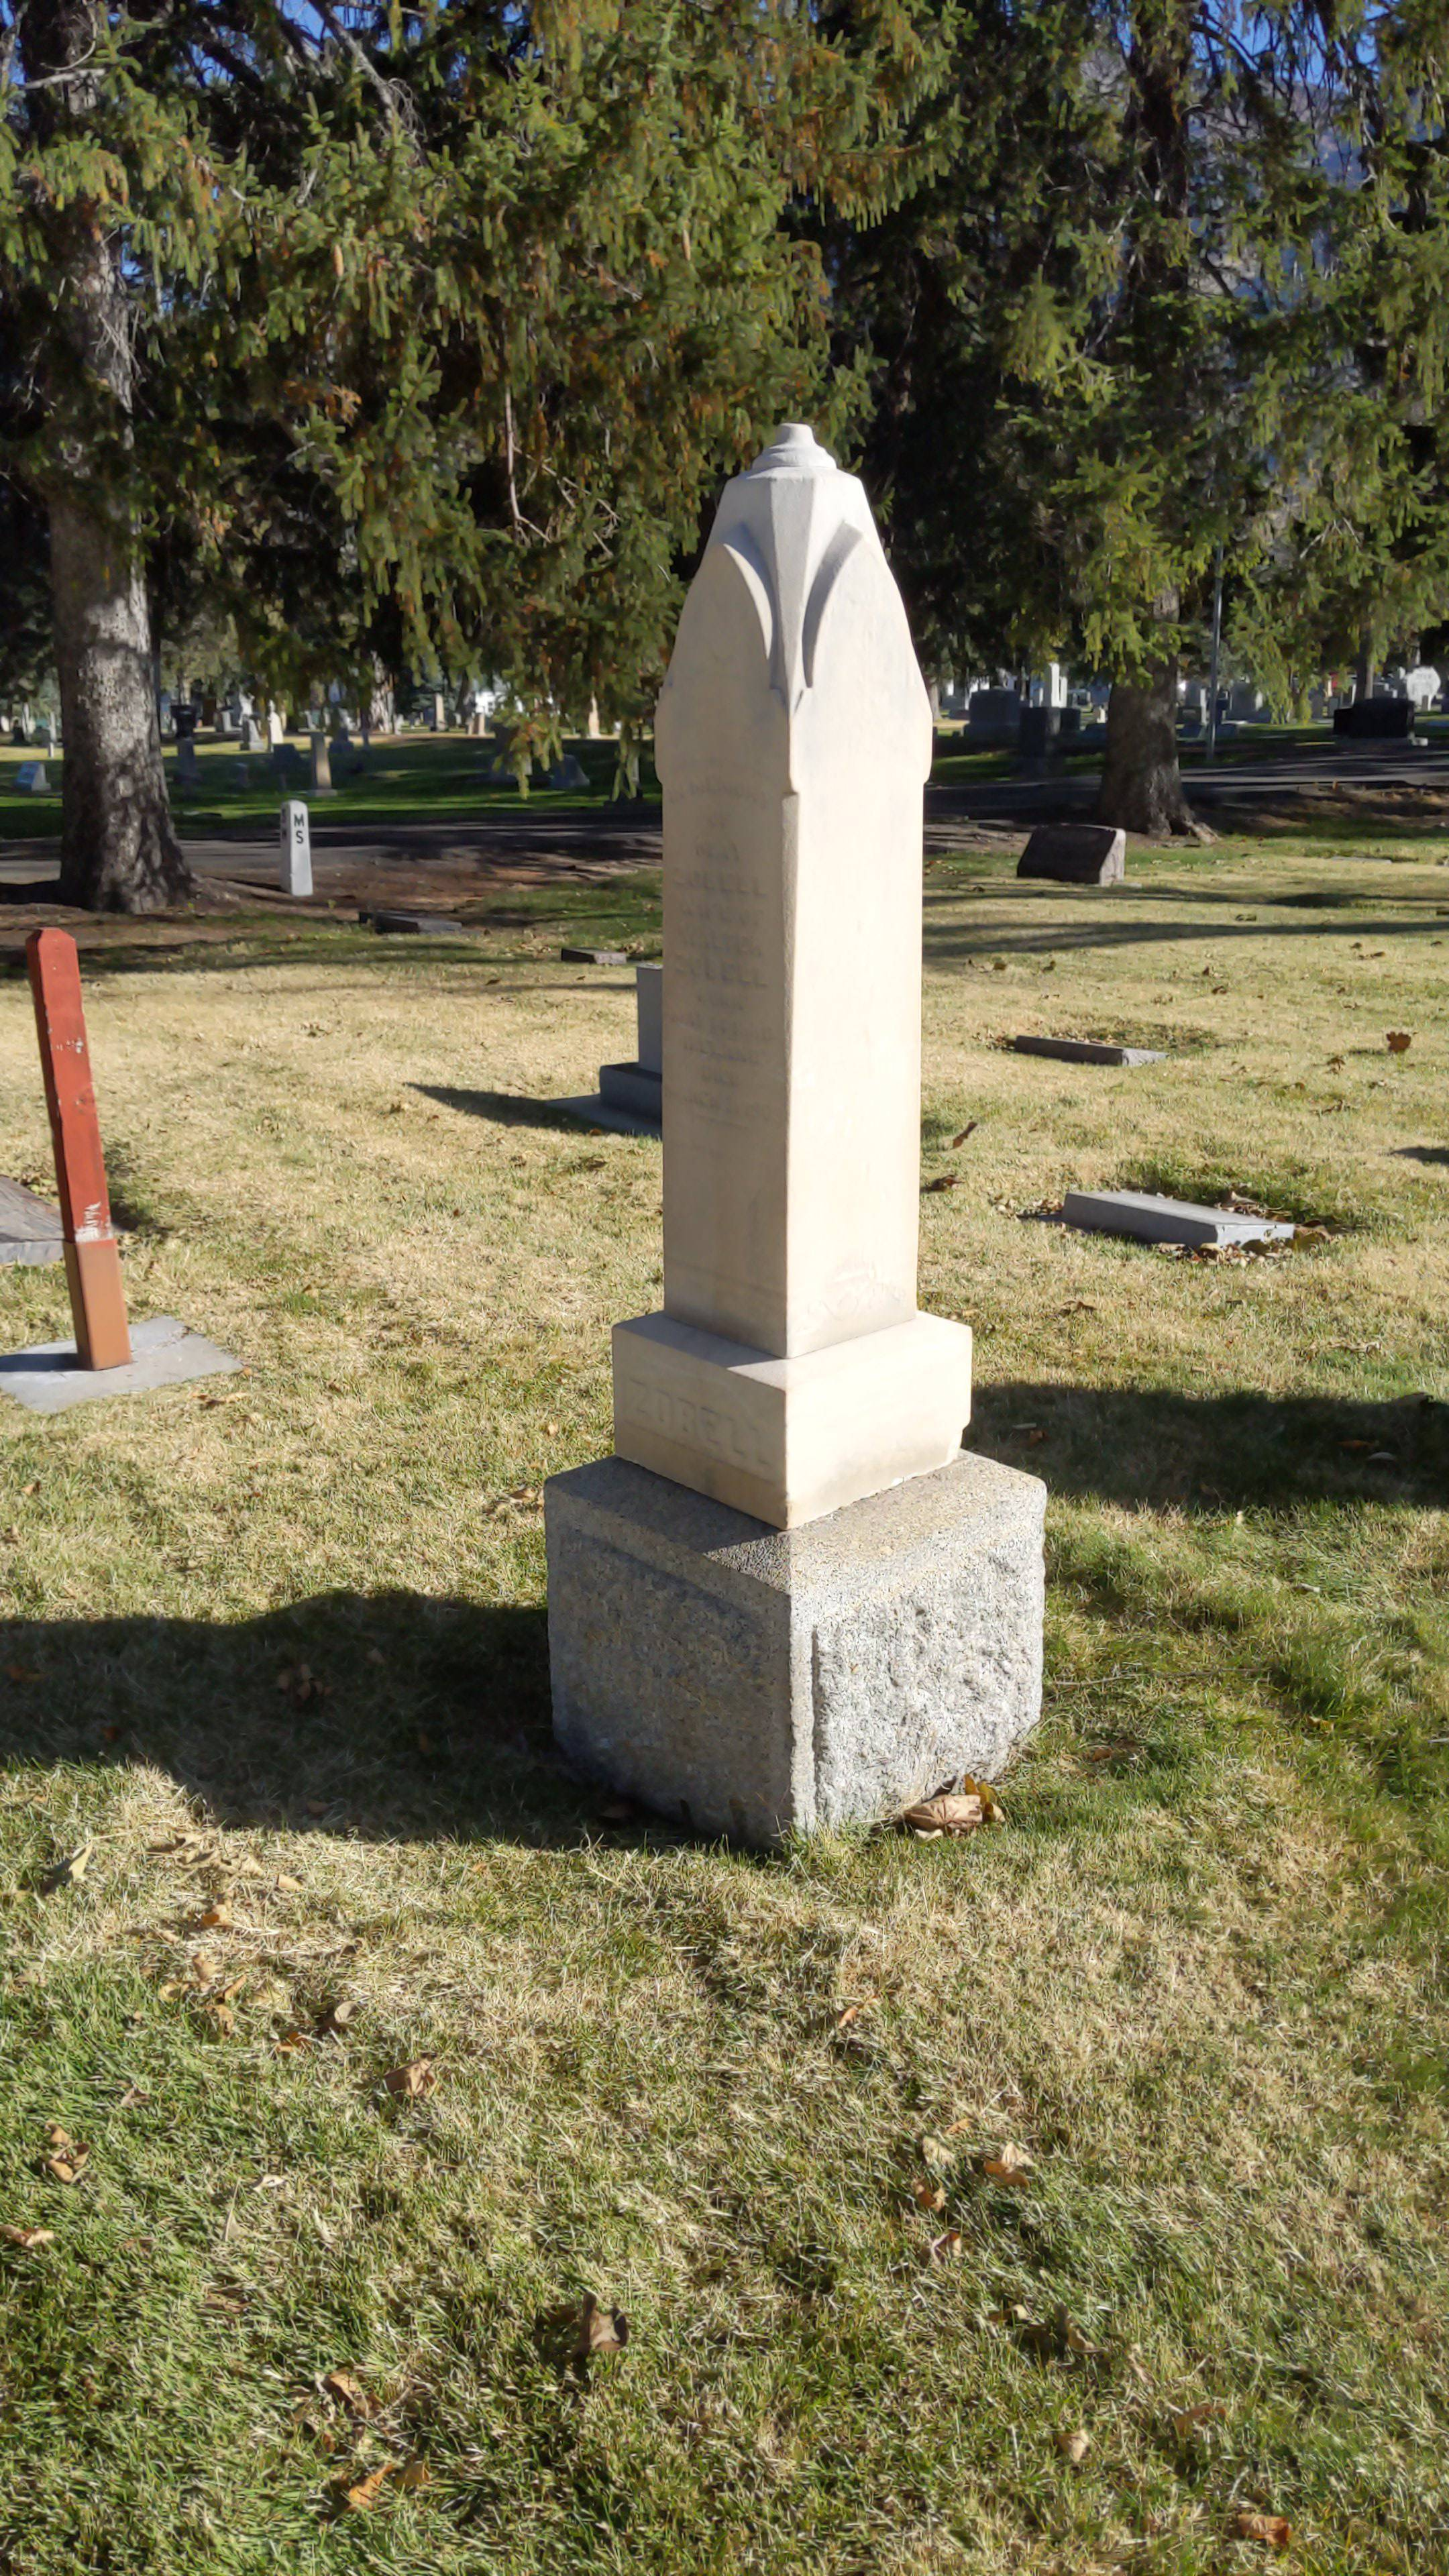obelisk: (610, 409, 975, 1516)
